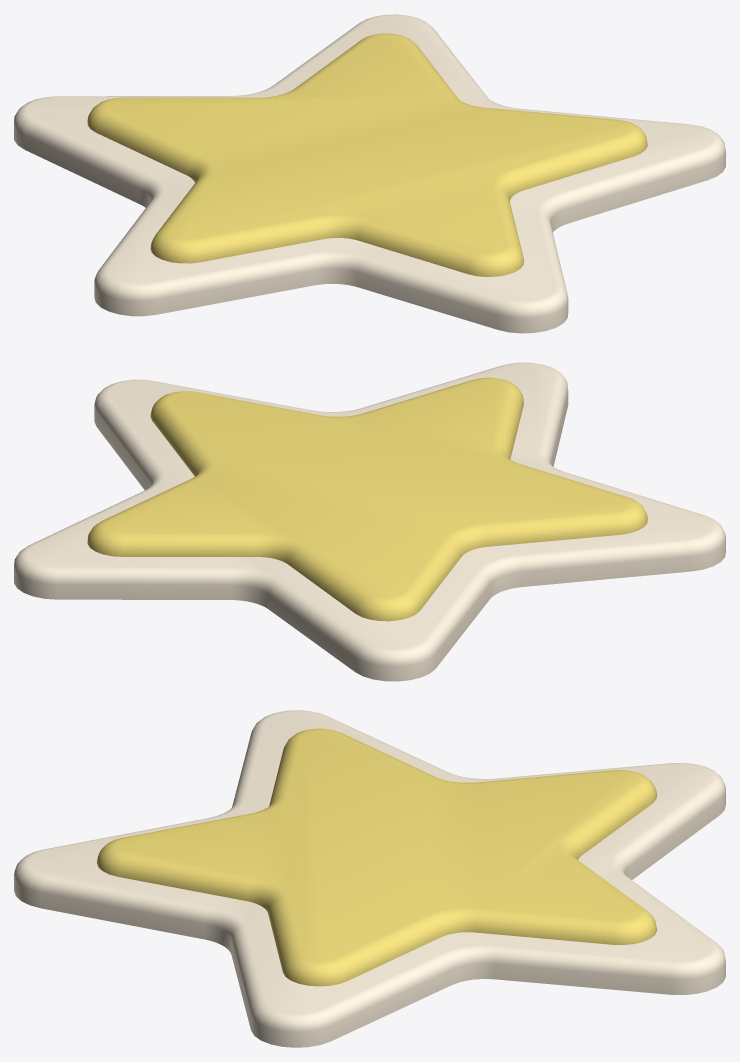
Rendered from rollover_star.glb.
3 renders of one model, top to bottom at view 1: azimuth 30°, elevation 25°; view 2: azimuth 150°, elevation 25°; view 3: azimuth 270°, elevation 25°, orthographic. The views are drawn at different scales.
Parts seen in each view (by area): view 1: rollover_star; view 2: rollover_star; view 3: rollover_star.
Boxes of the visible parts, box(x1,y1,x2,y2) form: rollover_star: box(14, 14, 725, 333); rollover_star: box(14, 362, 725, 681); rollover_star: box(14, 710, 725, 1047).
Size of the model in its own units: 1.21 by 0.08 by 1.16.
